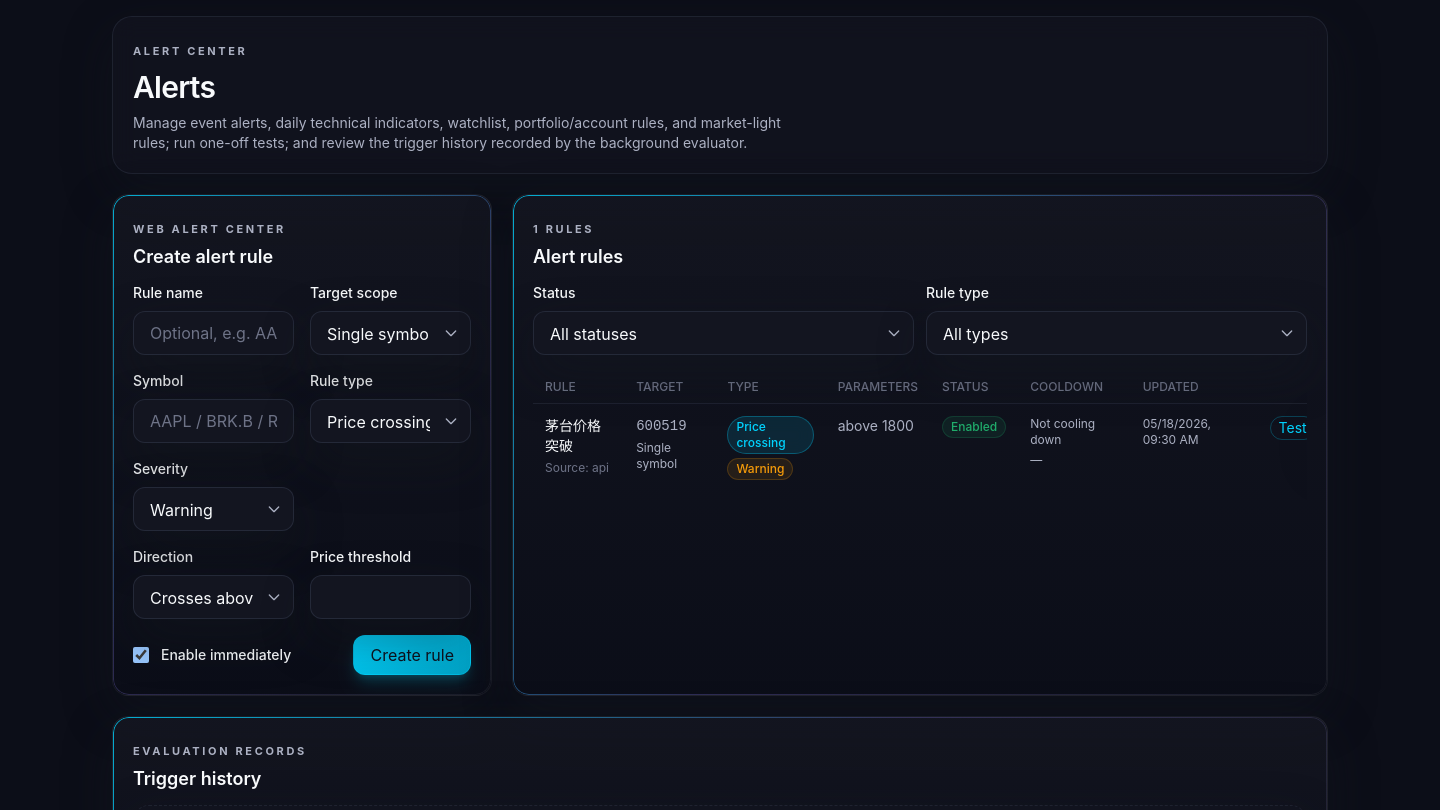
Test: AlertsPage › runs a dry-run test and renders only declared response fields
Click the button "Test" at (1293, 428), box [1270,416,1316,440]
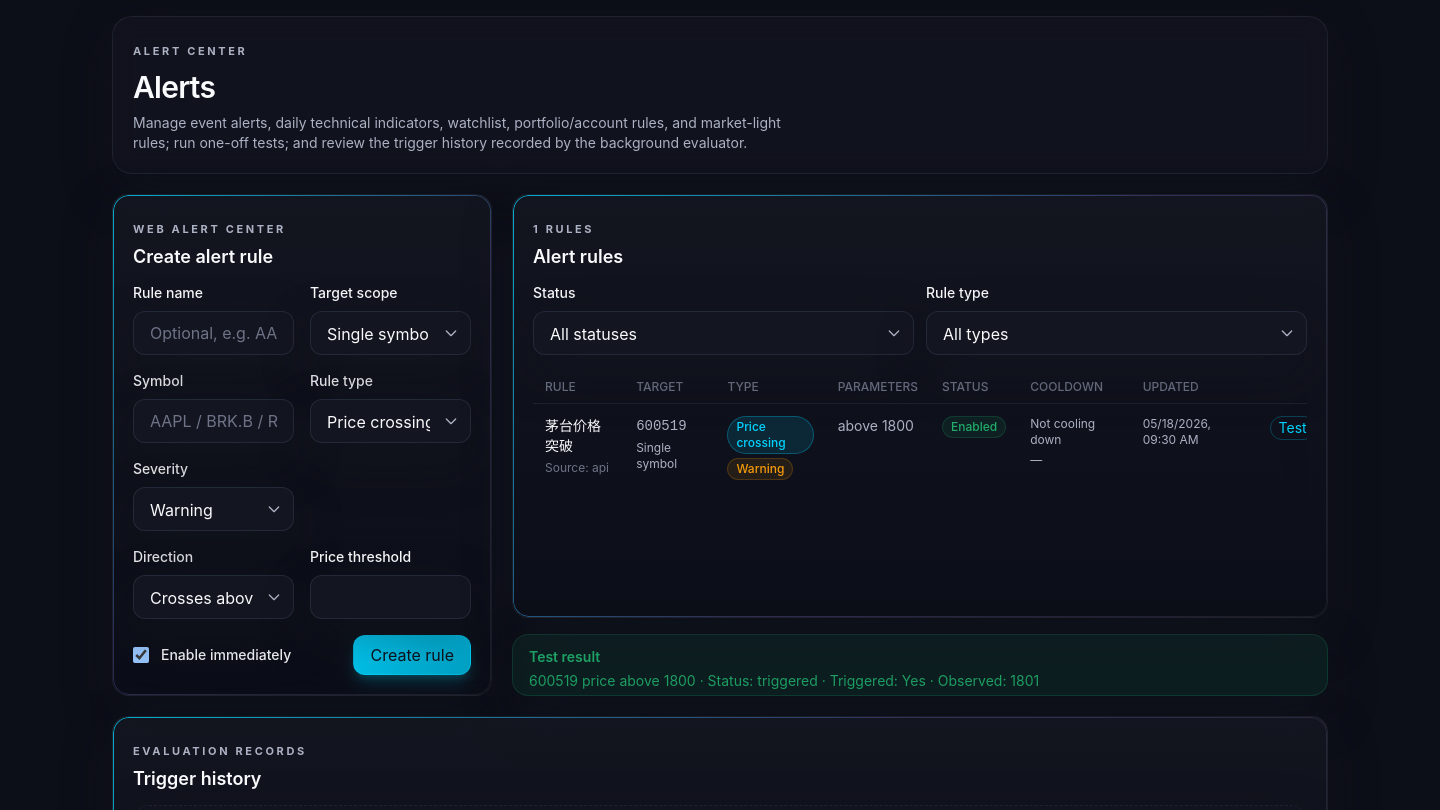
Check: the text "Test result" is shown, box [529,648,600,664]
Check: the text "600519 price above 1800" is shown, box [529,672,696,688]
Check: the text "Observed: 1801" is shown, box [529,670,1039,690]
